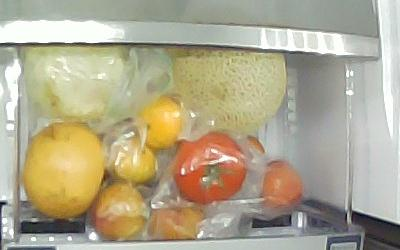cabbage: (22, 45, 136, 121)
melon: (164, 46, 287, 132)
pear: (22, 118, 104, 218)
prune_vinyl: (88, 179, 147, 240), (146, 196, 205, 240), (257, 158, 303, 208)
tangerine_vinyl: (133, 93, 183, 148), (107, 136, 158, 182)
tomato_vinyl: (170, 129, 247, 204)
